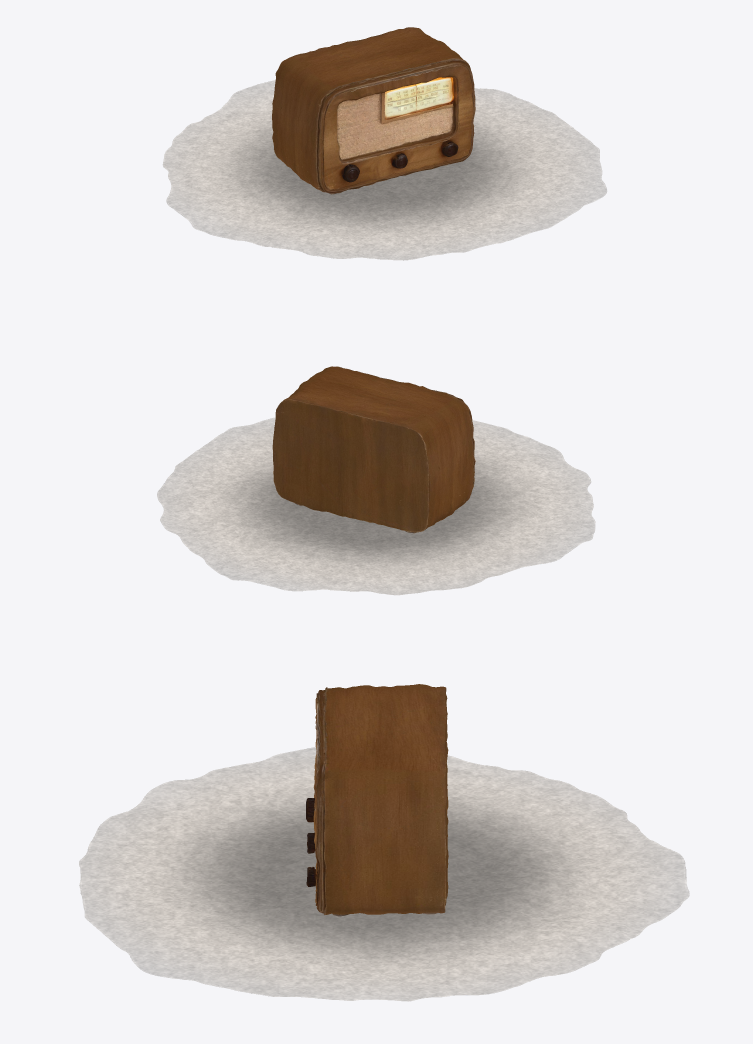
Rendered from radio.glb.
3 views of the same model, one above another, from view 1: azimuth 30°, elevation 25°; view 2: azimuth 150°, elevation 25°; view 3: azimuth 270°, elevation 25° (orthographic). The views are drawn at different scales.
Visible parts, largest first — view 1: Terreno, Televisor; view 2: Terreno, Televisor; view 3: Terreno, Televisor.
Part boxes in pixels (left/top/right/bottom): Terreno: left=162, top=80, right=607, bottom=260; Televisor: left=272, top=27, right=475, bottom=194; Terreno: left=157, top=417, right=595, bottom=595; Televisor: left=272, top=366, right=475, bottom=533; Terreno: left=79, top=747, right=689, bottom=1001; Televisor: left=306, top=684, right=448, bottom=916.
Bounding box in the file's own units: 2.85 × 0.6691 × 2.85.
Materials: 2 (2 with a texture image).
